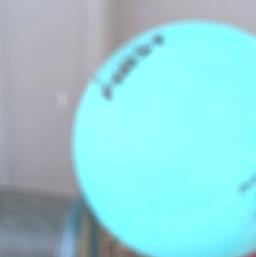algae: (67, 14, 256, 257)
